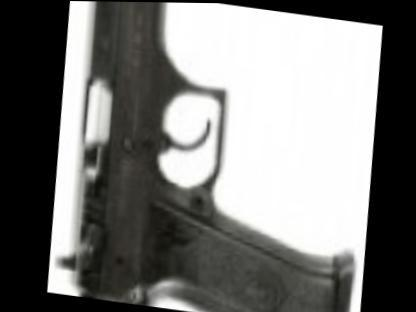pistol: (34, 0, 379, 311)
